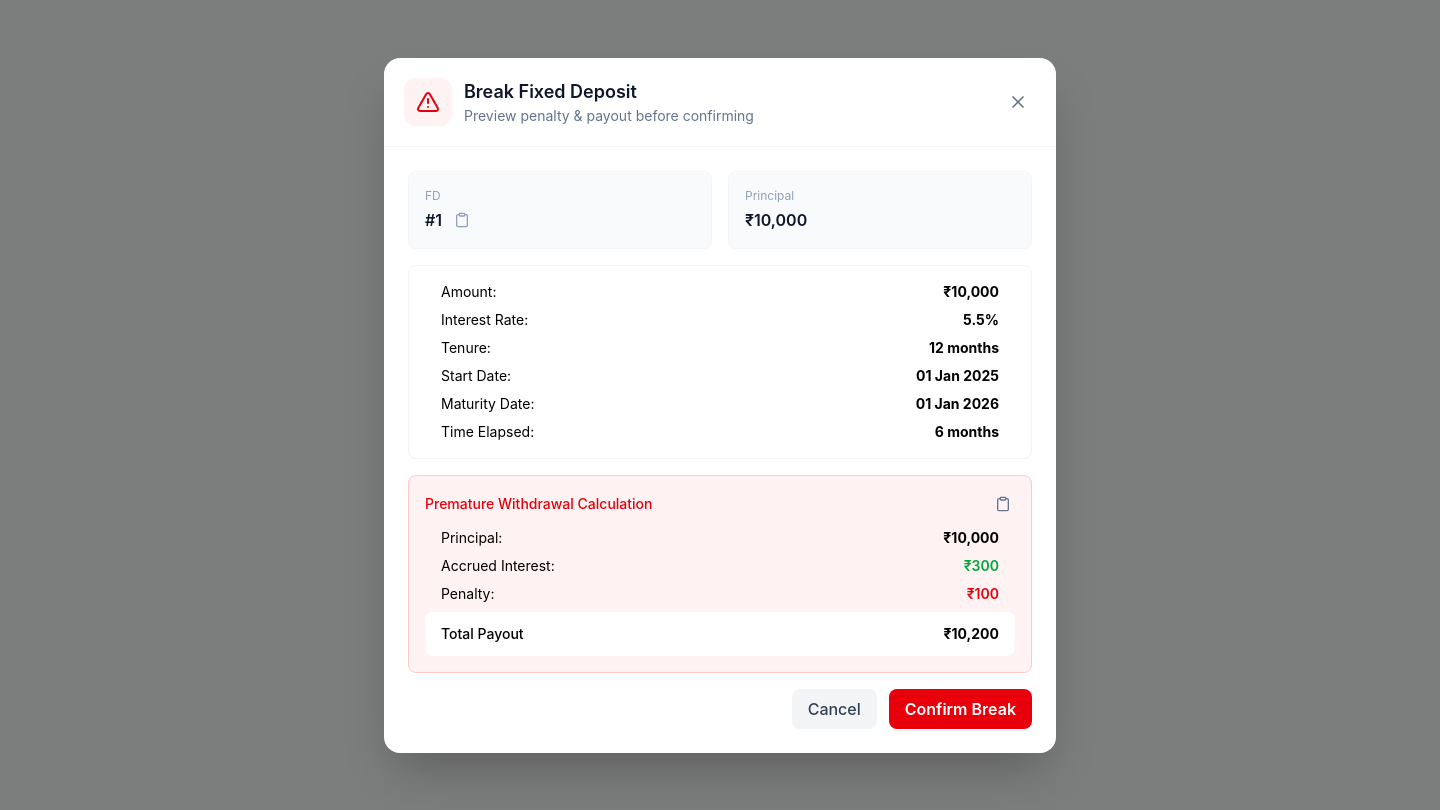
Test case: BreakFD.vue › opens confirmation dialog on Confirm Break click
The image size is (1440, 810).
Click the button "Confirm Break" at (960, 708), box [889,688,1032,728]
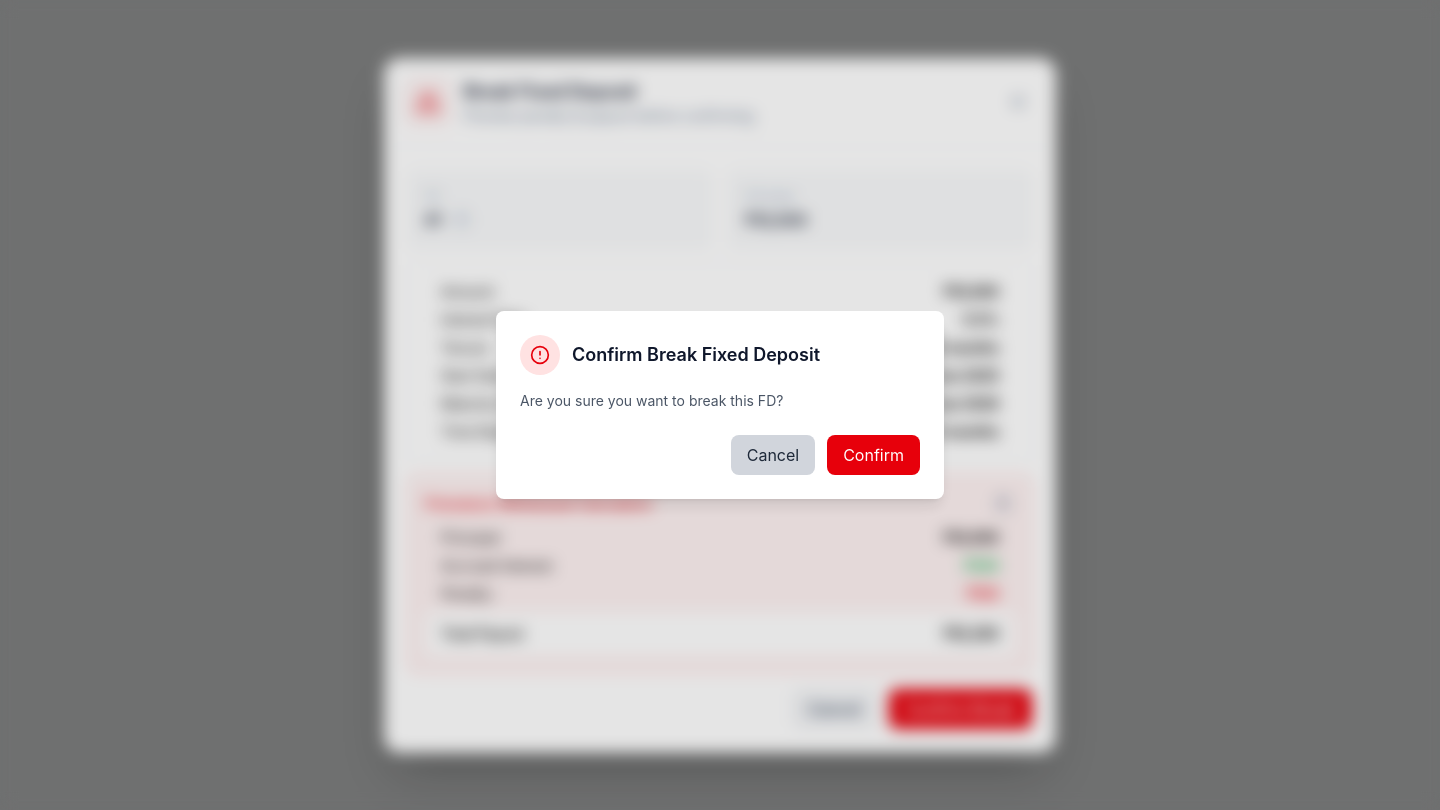
expect the text "Confirm Break Fixed Deposit" is shown: met, box [572,341,820,369]
